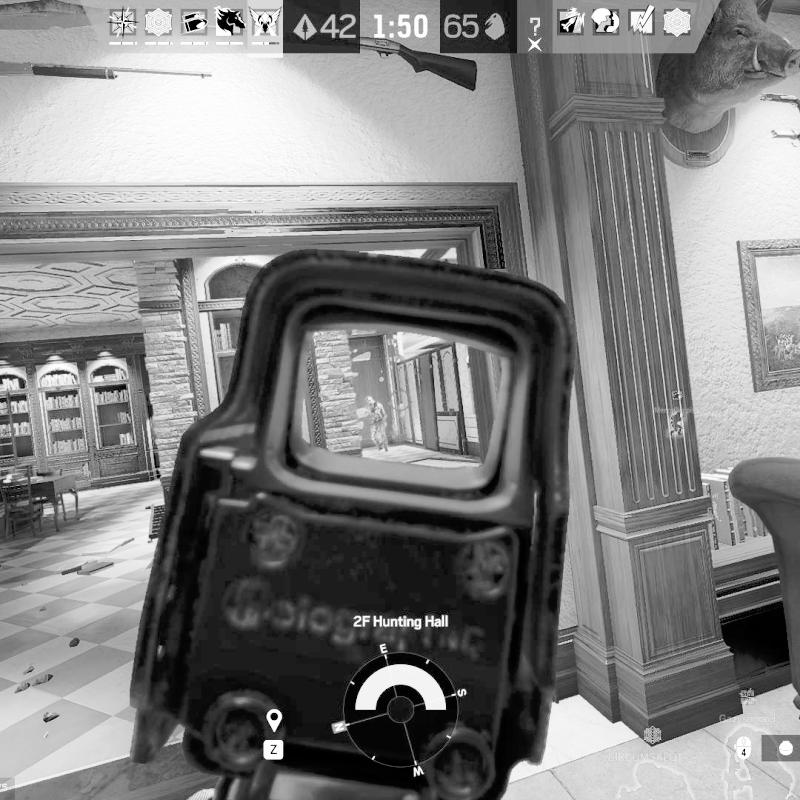Character: (364, 393, 390, 453)
Friend_label: (617, 724, 683, 767), (718, 686, 776, 724), (653, 389, 700, 414)
Head: (364, 395, 374, 405)
